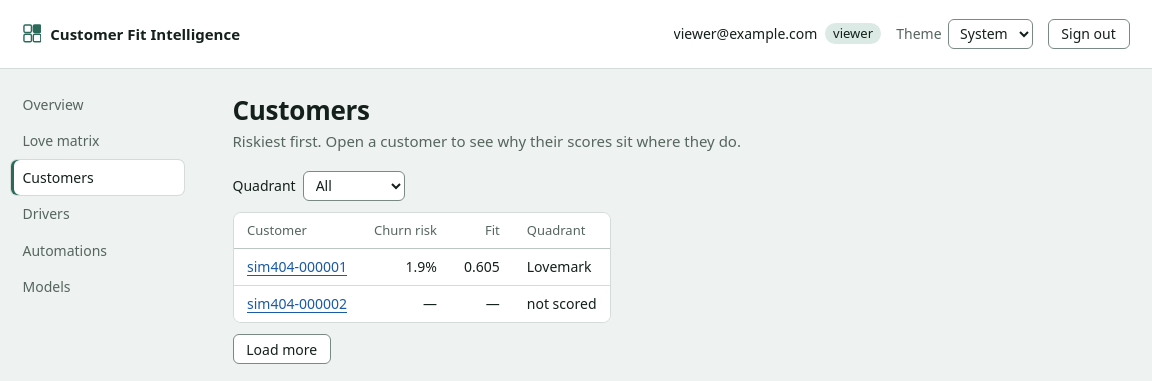
Test case: the list is riskiest first, a page at a time, each customer a link to their profile
This screenshot has width=1152, height=381.
What coordinates should you click on to do the following:
click the button "Load more"
I would click on:
 (282, 349)
Its box is [232,334,331,364].
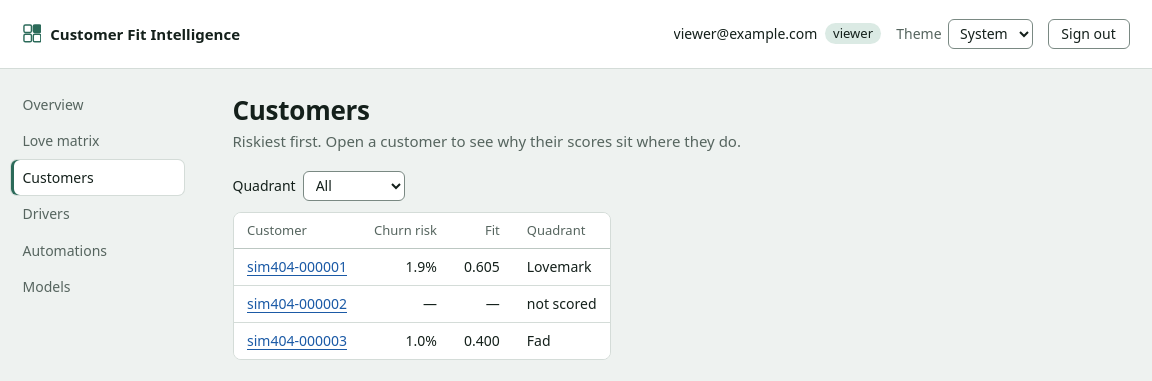
Expected: the row "sim404-000003 1.0% 0.400 Fad" is shown, [234,322,610,359]
Expected: the button "Load more" is gone
